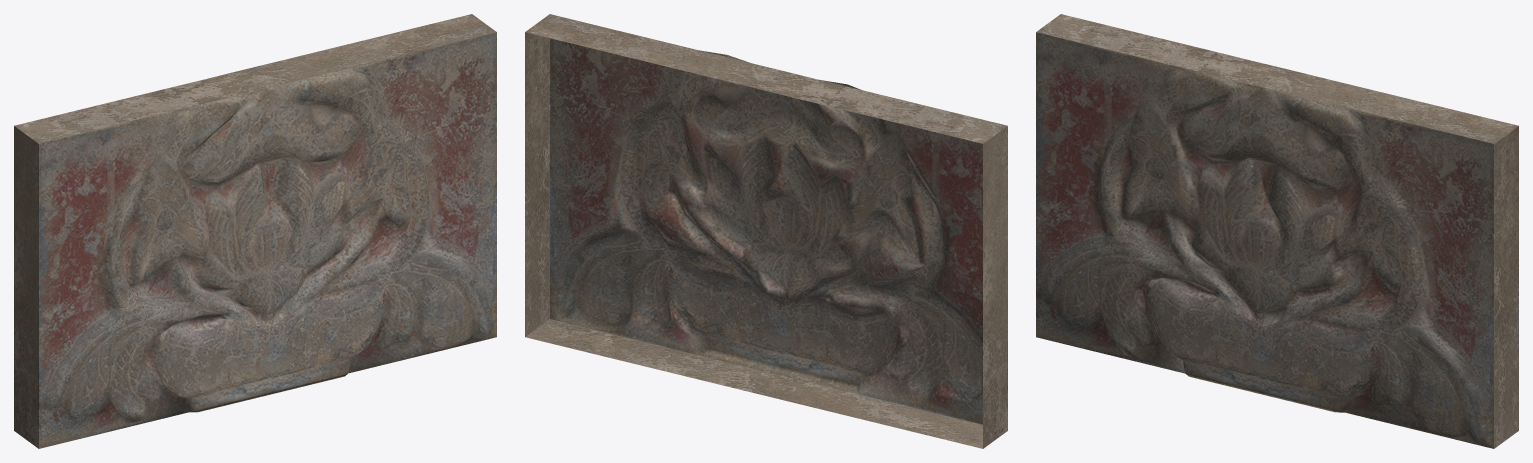
File: Lotus.glb
The picture shows the model from 3 angles, left to right: view 1: azimuth 30°, elevation 25°; view 2: azimuth 150°, elevation 25°; view 3: azimuth 330°, elevation 25°; orthographic projection.
Visible parts, largest first — view 1: Lotus; view 2: Lotus; view 3: Lotus.
Boxes of the visible parts, x1,y1,x2,y2 form: Lotus: (14, 14, 496, 448); Lotus: (525, 14, 1007, 448); Lotus: (1036, 14, 1518, 448).
Bounding box in the file's own units: 1.6 × 1.02 × 0.1826.
Materials: 1 (1 with a texture image).
